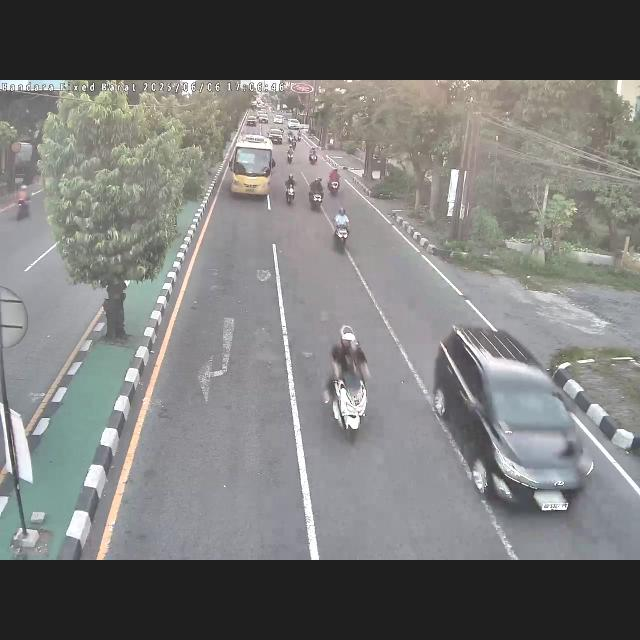Bis: (227, 133, 277, 200)
Mobil: (429, 318, 597, 524)
Motor: (319, 322, 373, 446), (332, 206, 352, 254), (308, 176, 324, 214), (326, 168, 342, 196), (284, 174, 298, 206)
